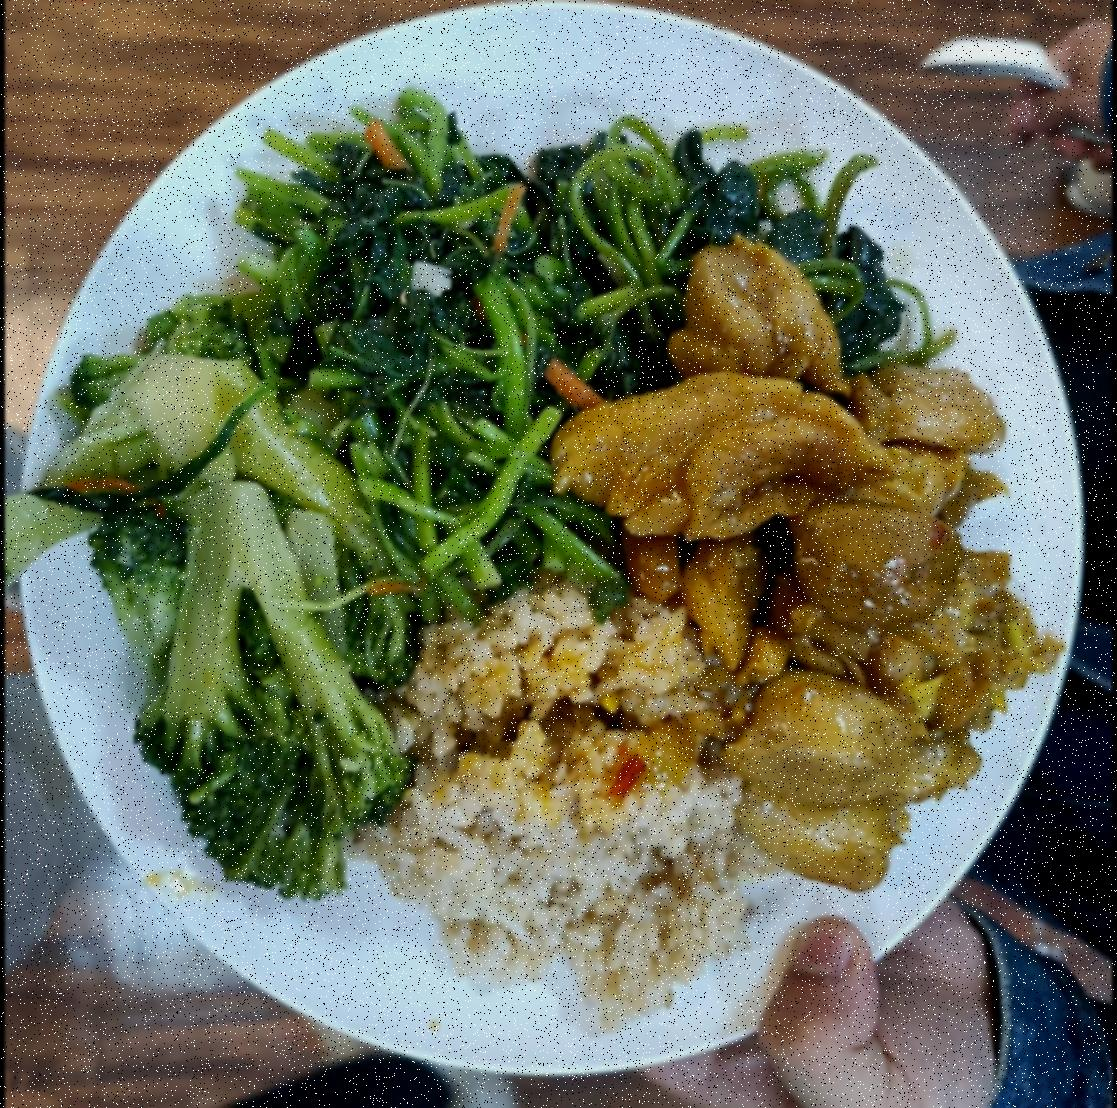big fried chicken leg: (24, 11, 1090, 1087)
box: (395, 603, 752, 981)
braised fish fillet: (67, 337, 420, 891), (328, 114, 537, 572), (542, 163, 882, 374)
braised pork: (595, 319, 1028, 856)
